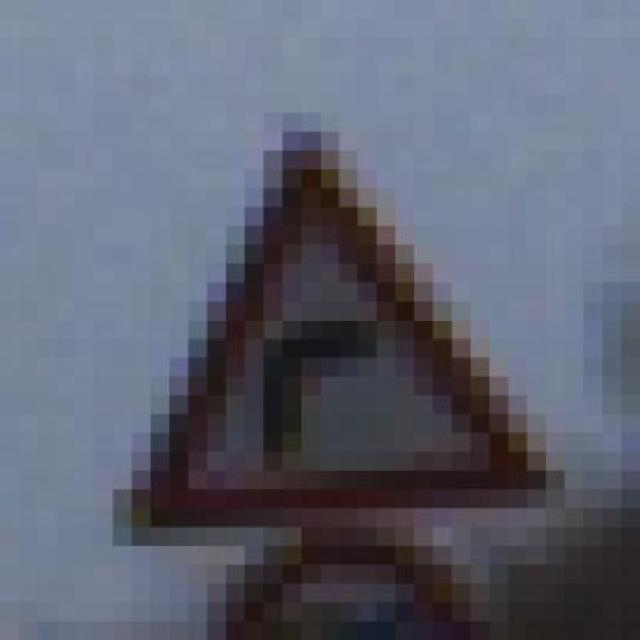Dangerous Rright Curve Ahead: (76, 132, 564, 546)
